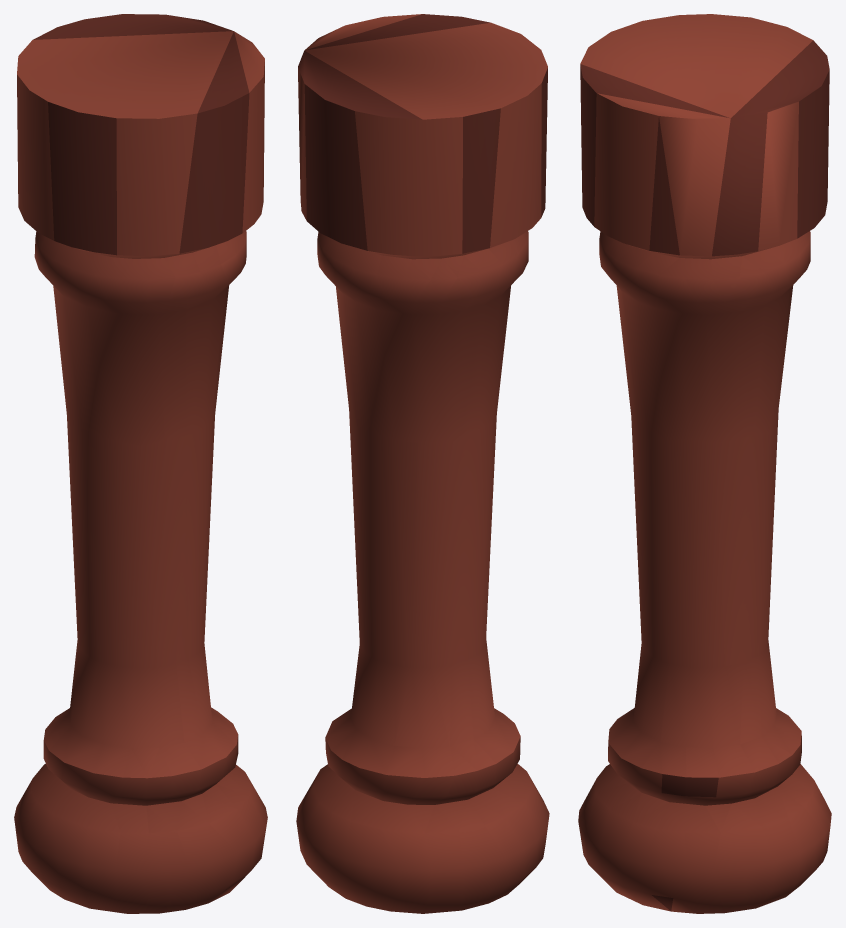
File: den_bed_leg_lod1.glb
3 renders of one model, left to right at view 1: azimuth 30°, elevation 25°; view 2: azimuth 150°, elevation 25°; view 3: azimuth 270°, elevation 25°, orthographic.
Parts seen in each view (by area): view 1: den_bed_leg.001; view 2: den_bed_leg.001; view 3: den_bed_leg.001.
Part boxes in pixels (<box>): den_bed_leg.001: <box>14,14,267,913</box>; den_bed_leg.001: <box>296,14,549,913</box>; den_bed_leg.001: <box>578,14,831,913</box>.
Bounding box in the file's own units: 6 × 21 × 6.
